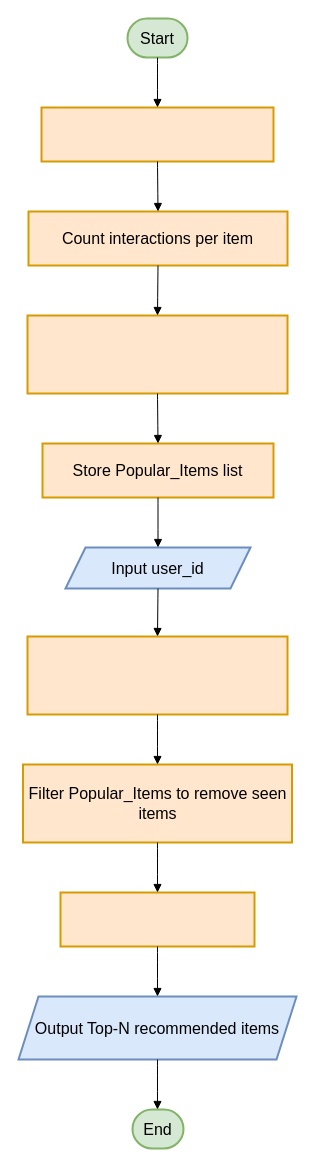
The diagram is 314 pixels wide and 1166 high, and some of its shapes have lost their labels. Each missing label, with the box of its shape:
Get items seen by user in TRAIN: (26, 635, 288, 715)
Load TRAIN interactions: (40, 106, 274, 162)
Select Top-N items: (59, 891, 255, 947)
Sort items by count descending: (26, 314, 288, 394)
